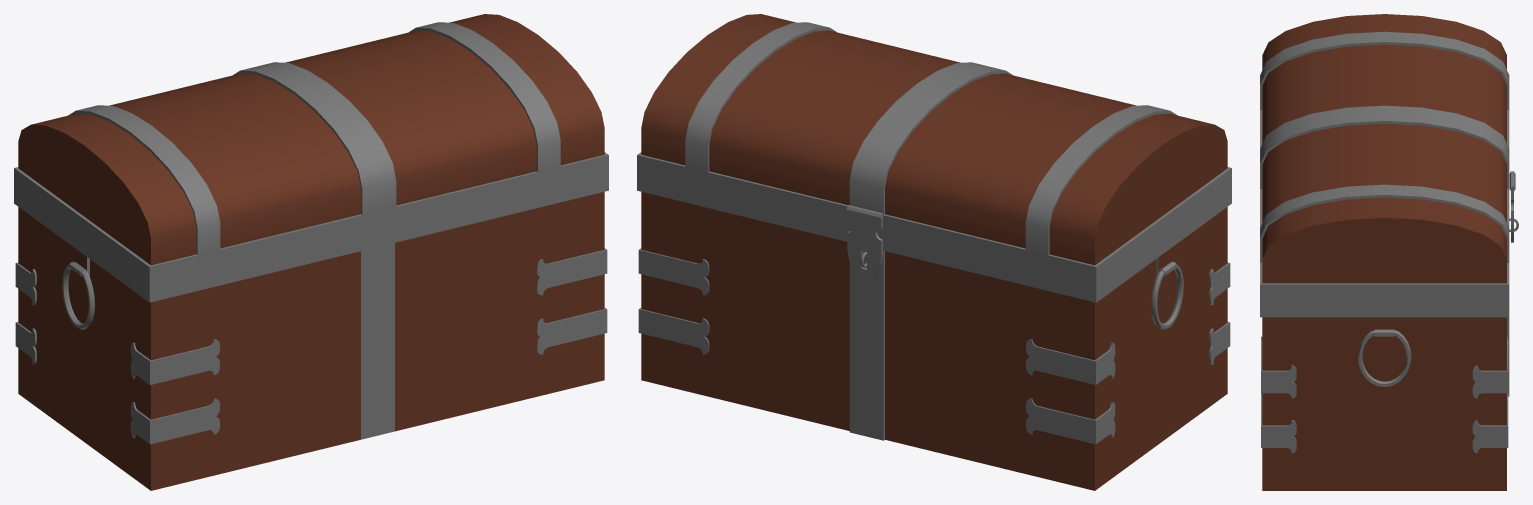
The model's file is PantryChest.fbx.
3 views of the same model, side by side, from view 1: azimuth 30°, elevation 25°; view 2: azimuth 150°, elevation 25°; view 3: azimuth 270°, elevation 25° (orthographic). The views are drawn at different scales.
Visible parts, largest first — view 1: Chest, ChestLid; view 2: Chest, ChestLid, ChestLock; view 3: ChestLid, Chest.
Part boxes in pixels (x1,y1,x2,y2): Chest: (14, 173, 608, 490); ChestLid: (14, 14, 608, 284); Chest: (637, 173, 1231, 490); ChestLid: (637, 14, 1231, 284); ChestLock: (846, 205, 883, 278); ChestLid: (1260, 14, 1509, 300); Chest: (1260, 218, 1518, 490).
Bounding box in the file's own units: 83.25 × 50.48 × 42.95.
